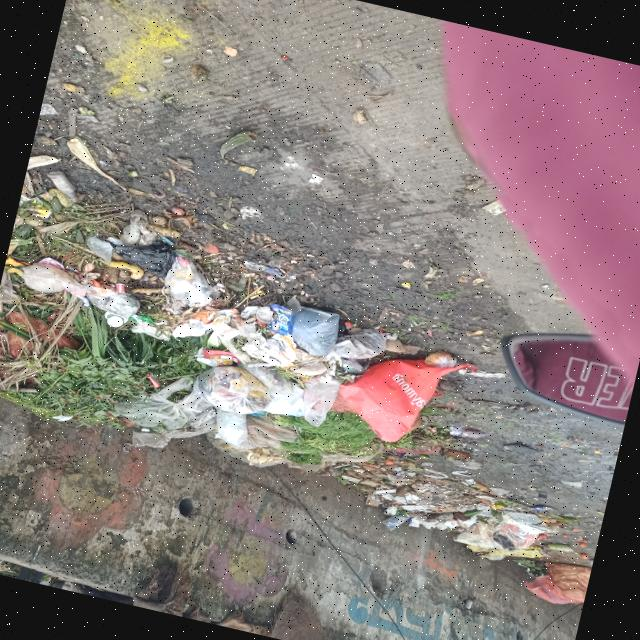garbage: (0, 192, 460, 501), (337, 450, 597, 612)
